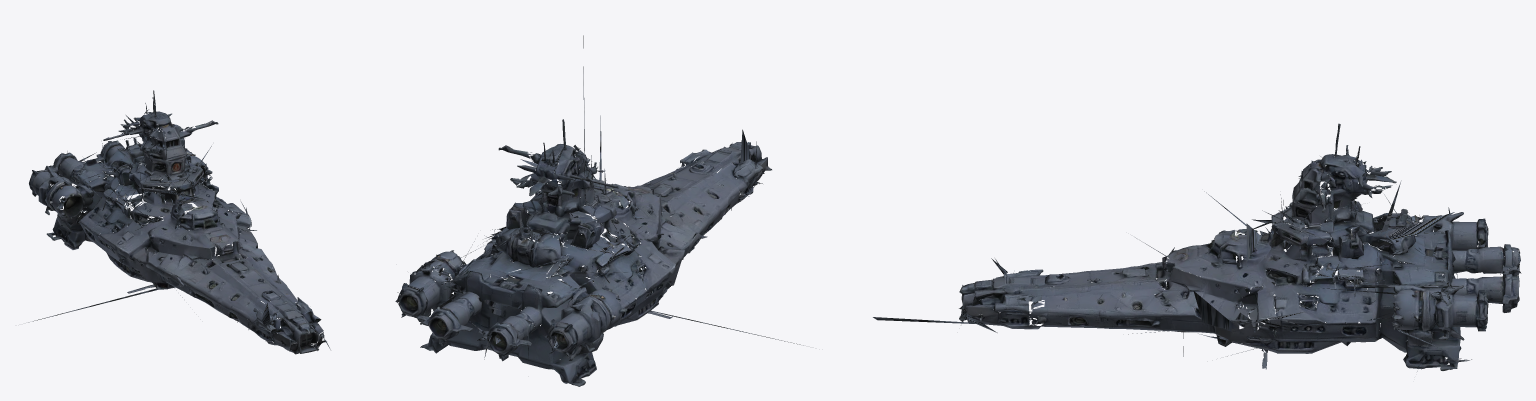
Rendered from battle_ship-v2.glb.
The picture shows the model from 3 angles, left to right: view 1: azimuth 30°, elevation 25°; view 2: azimuth 150°, elevation 25°; view 3: azimuth 270°, elevation 25°; orthographic projection. The views are drawn at different scales.
Parts seen in each view (by area): view 1: tripo_node_89f6504a-a0aa-4c24-9190-7a0af2fb0bf7; view 2: tripo_node_89f6504a-a0aa-4c24-9190-7a0af2fb0bf7; view 3: tripo_node_89f6504a-a0aa-4c24-9190-7a0af2fb0bf7.
Boxes of the visible parts, x1,y1,x2,y2 form: tripo_node_89f6504a-a0aa-4c24-9190-7a0af2fb0bf7: (28,90,330,354); tripo_node_89f6504a-a0aa-4c24-9190-7a0af2fb0bf7: (395,35,803,386); tripo_node_89f6504a-a0aa-4c24-9190-7a0af2fb0bf7: (873,123,1521,371).
Bounding box in the file's own units: 0.7124 × 0.6744 × 1.19.
1 material, 1 textured.
